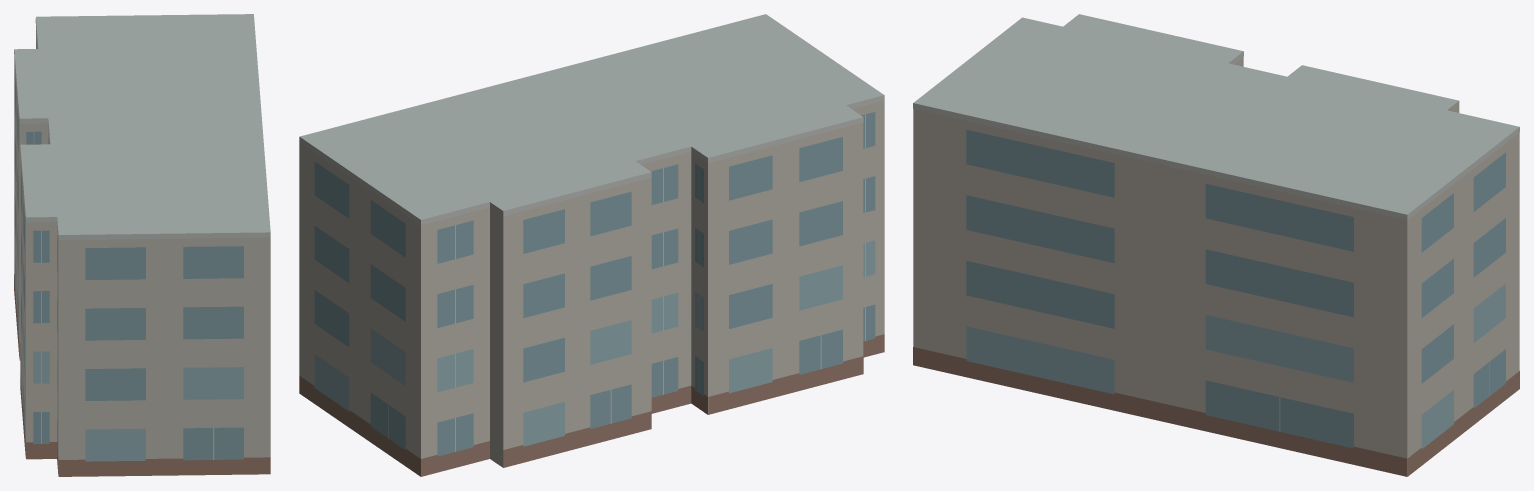
The model's file is survey-upis-32670822.glb.
The picture shows the model from 3 angles, left to right: view 1: azimuth 30°, elevation 25°; view 2: azimuth 150°, elevation 25°; view 3: azimuth 270°, elevation 25°; orthographic projection. The views are drawn at different scales.
Parts seen in each view (by area): view 1: survey-upis-32670822.tmp; view 2: survey-upis-32670822.tmp; view 3: survey-upis-32670822.tmp.
Part boxes in pixels (x1=…): survey-upis-32670822.tmp: x1=14, y1=14, x2=270, y2=476; survey-upis-32670822.tmp: x1=299, y1=14, x2=884, y2=476; survey-upis-32670822.tmp: x1=913, y1=14, x2=1519, y2=476.
Bounding box in the file's own units: 19.05 × 11.6 × 24.33.
